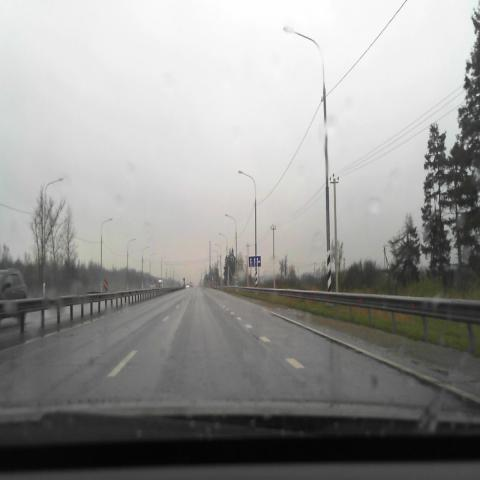5_15_1: (249, 256, 261, 267)
